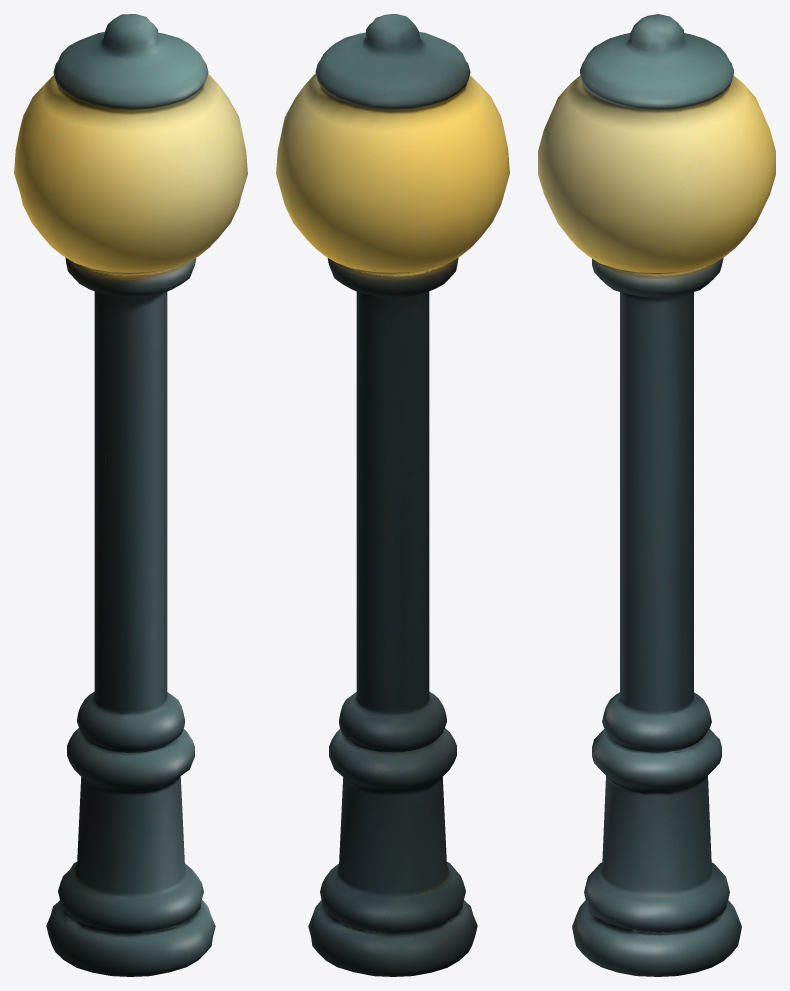
Rendered from lamp.glb.
3 renders of one model, left to right at view 1: azimuth 30°, elevation 25°; view 2: azimuth 150°, elevation 25°; view 3: azimuth 270°, elevation 25°, orthographic.
Visible parts, largest first — view 1: tripo_node_2482e4e0-34e1-46a8-8dcd-5aa84052c43a; view 2: tripo_node_2482e4e0-34e1-46a8-8dcd-5aa84052c43a; view 3: tripo_node_2482e4e0-34e1-46a8-8dcd-5aa84052c43a.
Part boxes in pixels (bbox=[...]): tripo_node_2482e4e0-34e1-46a8-8dcd-5aa84052c43a: bbox=[14, 14, 247, 976]; tripo_node_2482e4e0-34e1-46a8-8dcd-5aa84052c43a: bbox=[276, 14, 509, 976]; tripo_node_2482e4e0-34e1-46a8-8dcd-5aa84052c43a: bbox=[538, 14, 775, 976].
Size of the model in its own units: 0.2285 by 0.9981 by 0.2324.
Materials: 1 (1 with a texture image).
